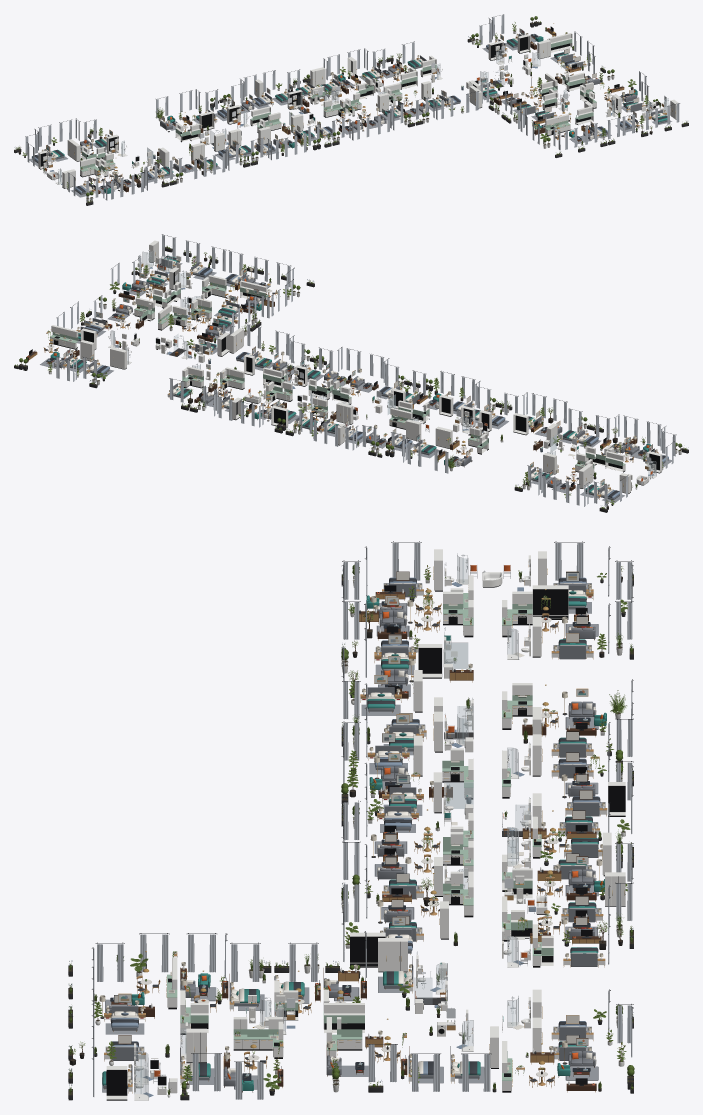
The picture shows the model from 3 angles, top to bottom: view 1: azimuth 30°, elevation 25°; view 2: azimuth 150°, elevation 25°; view 3: azimuth 270°, elevation 25°; orthographic projection. The views are drawn at different scales.
Visible parts, largest first — view 1: in_L07_u114_furn_kitchen_run1__int_white_gloss, in_L07_u111_furn_kitchen_run1__int_white_gloss; view 2: in_L07_u111_furn_kitchen_run1__int_white_gloss; view 3: in_L07_u113_furn_kitchen_run1__int_white_gloss, in_L07_u125_furn_wardrobe1__int_white_gloss, in_L07_u116-a_furn_wardrobe1__int_white_gloss, in_L07_u116-a_furn_kitchen_run1__int_white_gloss, in_L07_u117_furn_wardrobe2__int_white_gloss, in_L07_u122_furn_wardrobe1__int_white_gloss.
Boxes of the visible parts, <box> form: in_L07_u114_furn_kitchen_run1__int_white_gloss: <box>545,114,570,135</box>; in_L07_u111_furn_kitchen_run1__int_white_gloss: <box>548,33,572,52</box>; in_L07_u111_furn_kitchen_run1__int_white_gloss: <box>50,325,78,349</box>; in_L07_u113_furn_kitchen_run1__int_white_gloss: <box>233,1017,283,1050</box>; in_L07_u125_furn_wardrobe1__int_white_gloss: <box>532,585,568,619</box>; in_L07_u116-a_furn_wardrobe1__int_white_gloss: <box>378,938,407,972</box>; in_L07_u116-a_furn_kitchen_run1__int_white_gloss: <box>324,1003,364,1032</box>; in_L07_u117_furn_wardrobe2__int_white_gloss: <box>350,932,385,967</box>; in_L07_u122_furn_wardrobe1__int_white_gloss: <box>418,644,442,678</box>.
Bounding box in the file's own units: 82.6 × 3 × 37.95.
